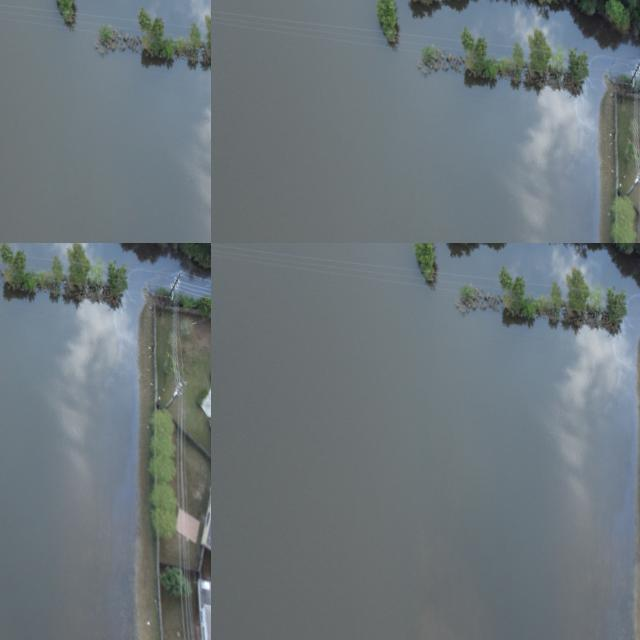fire: (211, 243, 640, 640), (211, 0, 343, 243)
